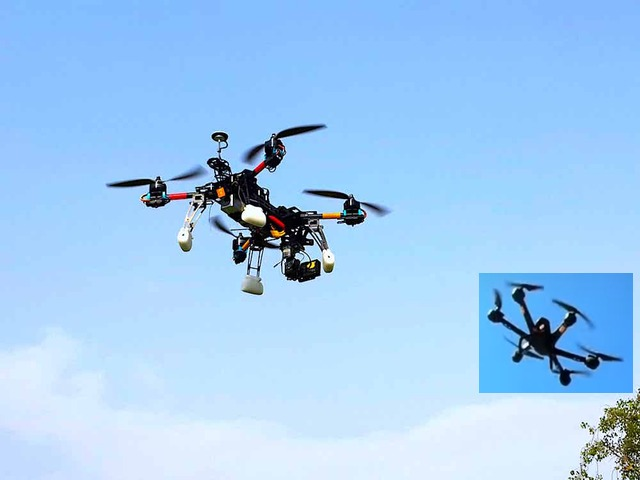drone: (104, 124, 390, 295), (479, 273, 633, 393)
